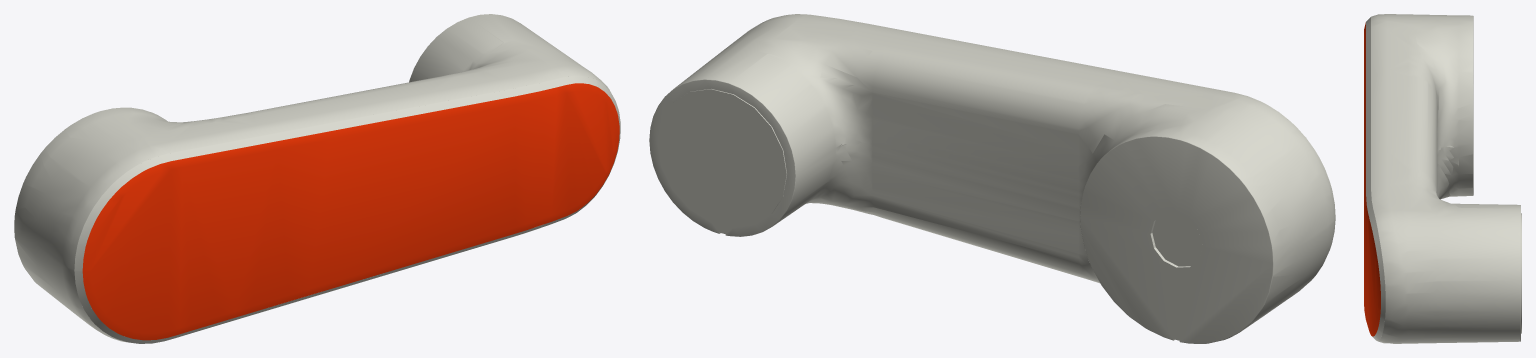
3 renders of one model, left to right at view 1: azimuth 30°, elevation 25°; view 2: azimuth 150°, elevation 25°; view 3: azimuth 270°, elevation 25°, orthographic. The views are drawn at different scales.
Visible parts, largest first — view 1: Mesh (×3); view 2: Mesh (×3); view 3: Mesh (×3).
Part boxes in pixels (x1,y1,x2,y2): Mesh (×3): (14, 14, 620, 343); Mesh (×3): (649, 14, 1335, 343); Mesh (×3): (1364, 14, 1520, 343).
Bounding box in the file's own units: 192 × 62.98 × 54.14.
